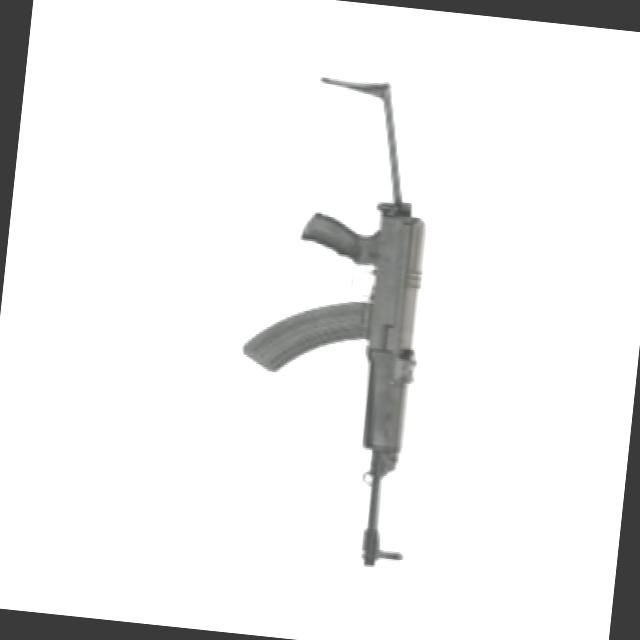long weapon: (225, 50, 468, 581)
